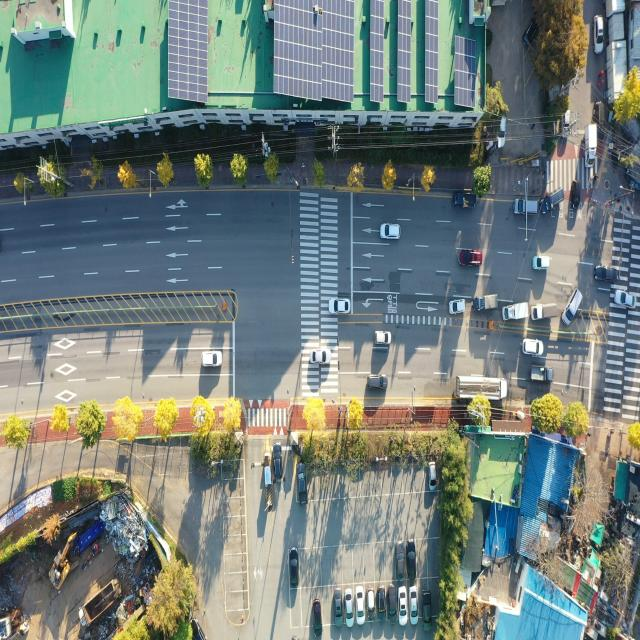car: (540, 186, 565, 216), (562, 288, 582, 324), (524, 17, 540, 50), (395, 540, 406, 586), (296, 461, 307, 504), (512, 198, 538, 216), (615, 289, 639, 307), (458, 248, 482, 266), (406, 538, 416, 580), (272, 440, 282, 480), (594, 14, 604, 54), (313, 600, 323, 638), (595, 102, 605, 140), (328, 299, 351, 315), (202, 350, 222, 368), (572, 180, 583, 212), (334, 586, 343, 624), (380, 222, 400, 239), (422, 592, 431, 628), (497, 115, 506, 151), (594, 269, 617, 283), (311, 349, 331, 365), (522, 338, 542, 354), (560, 110, 571, 139), (290, 550, 298, 588), (366, 376, 386, 391), (398, 587, 406, 624), (346, 589, 354, 626), (356, 587, 364, 624), (428, 458, 437, 490), (388, 583, 396, 619), (378, 587, 386, 622), (532, 255, 550, 270), (366, 586, 374, 617), (411, 589, 418, 624), (450, 300, 465, 316), (376, 332, 392, 346)
medium_truck: (458, 377, 508, 400)
small_truck: (502, 302, 528, 325), (584, 124, 597, 169), (530, 302, 558, 322), (453, 189, 477, 210), (474, 292, 498, 312), (533, 366, 556, 382)
